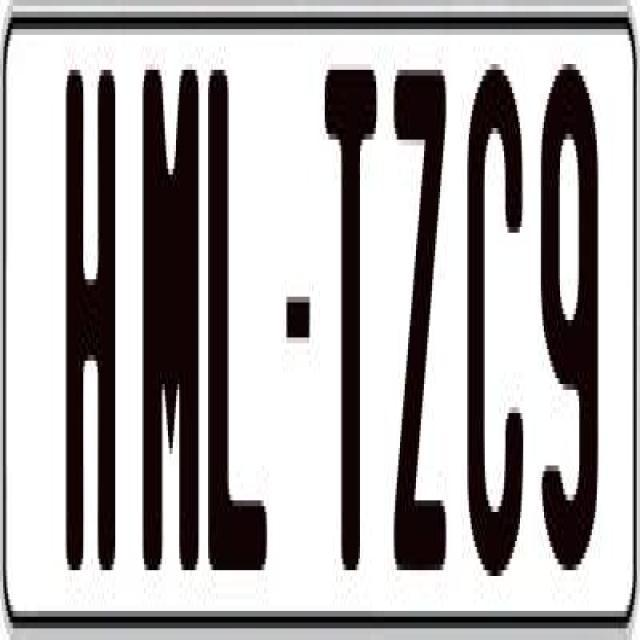9: (536, 52, 597, 564)
C: (464, 58, 526, 570)
H: (65, 64, 124, 582)
L: (205, 52, 269, 564)
M: (138, 52, 202, 570)
T: (320, 52, 371, 588)
Z: (392, 64, 451, 570)
